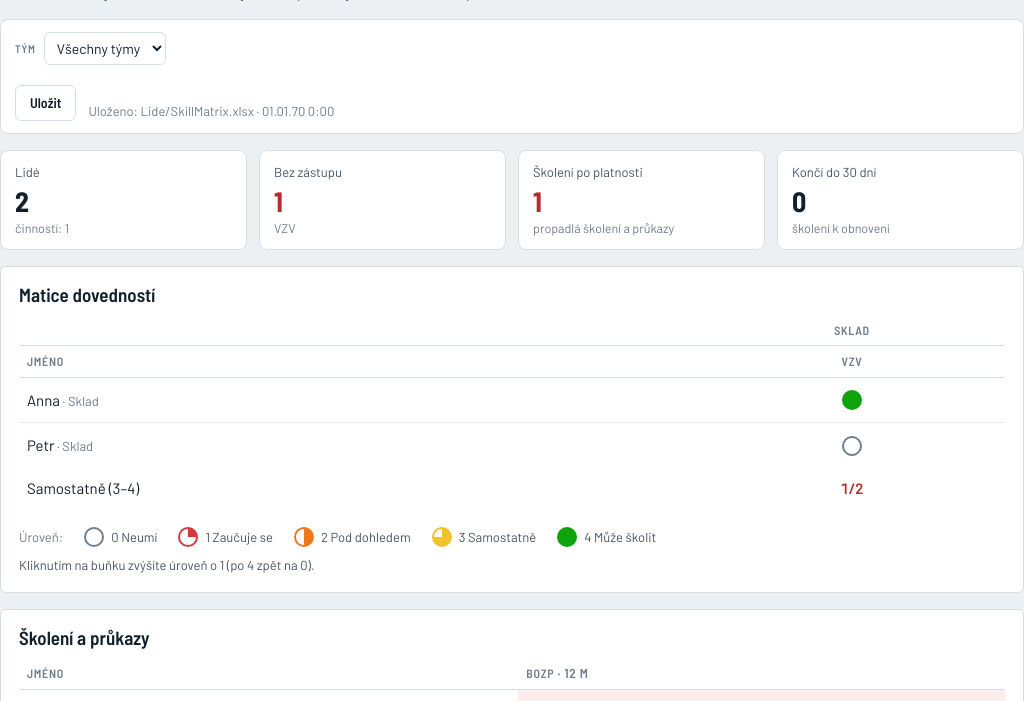
Test: Skill Matrix › matice: klik zvýší úroveň, zástupnost a školení po platnosti
Check: the text with class "kpi-value" below "Školení po platnosti" reads "1", box [533,184,542,218]
Check: the text "1/2" is shown, box [841,479,864,497]
Click the button named "Petr · VZV:": (852, 446) [839,433,865,459]
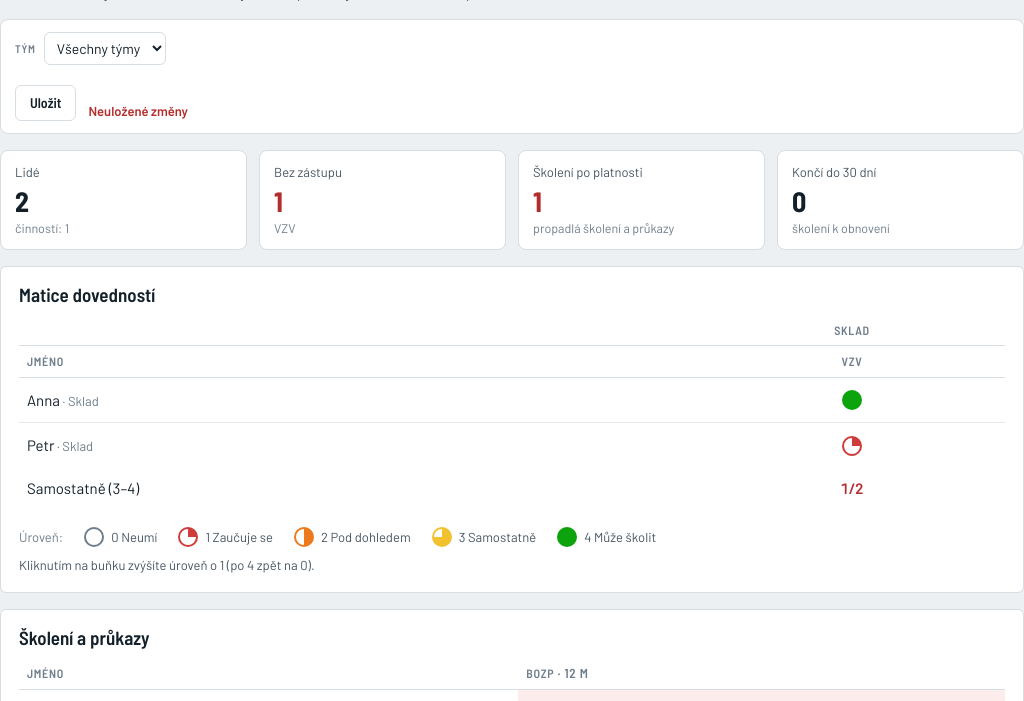
Click the button named "Petr · VZV:": (852, 446) [839,433,865,459]
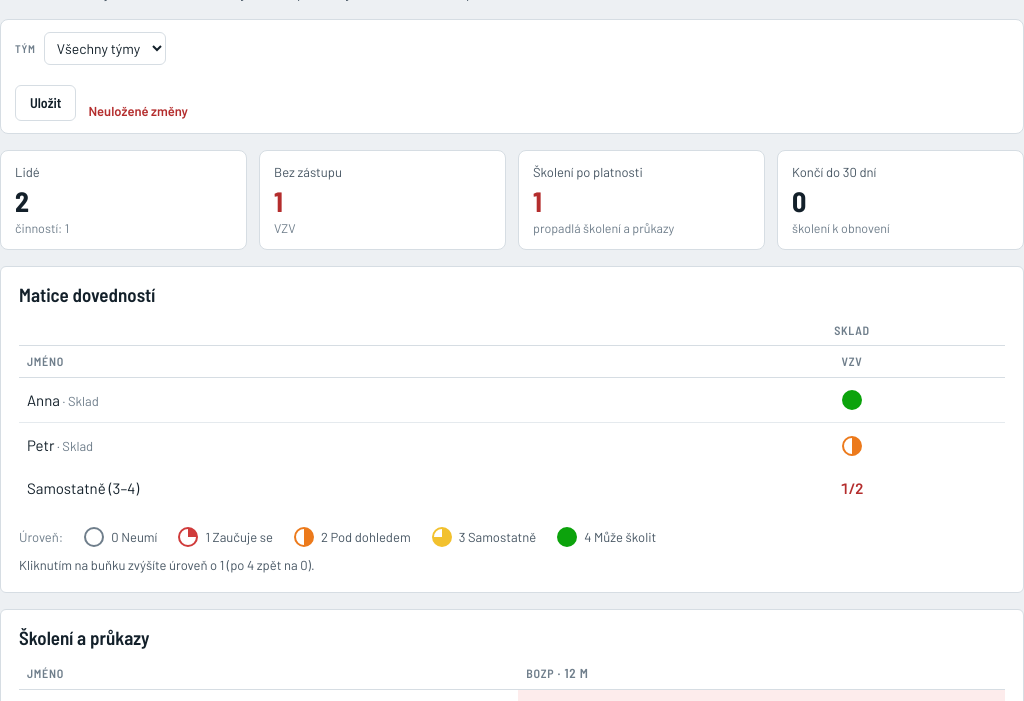
Click the button named "Petr · VZV:": (852, 446) [839,433,865,459]
(page scrolled)
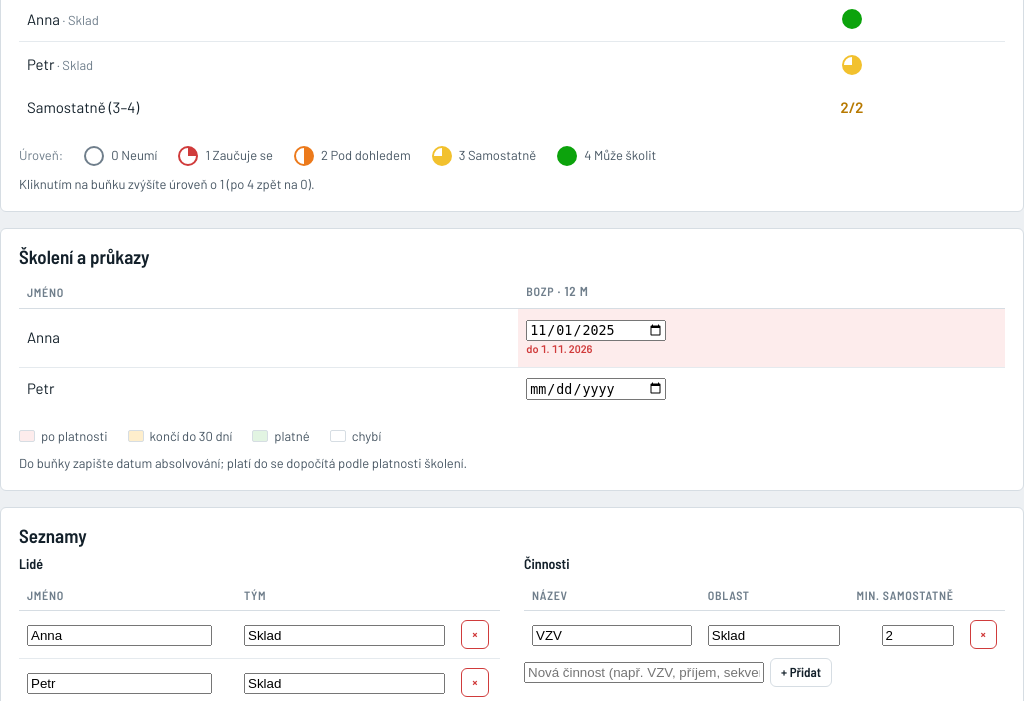
Check: the button named "Petr · VZV: 3 – Samostatně" is shown, box [839,52,865,78]
Check: the text "2/2" is shown, box [841,98,864,116]
In the date field named "Anna · BOZP": (596, 330) [526,320,666,341], type "2026-11-05"
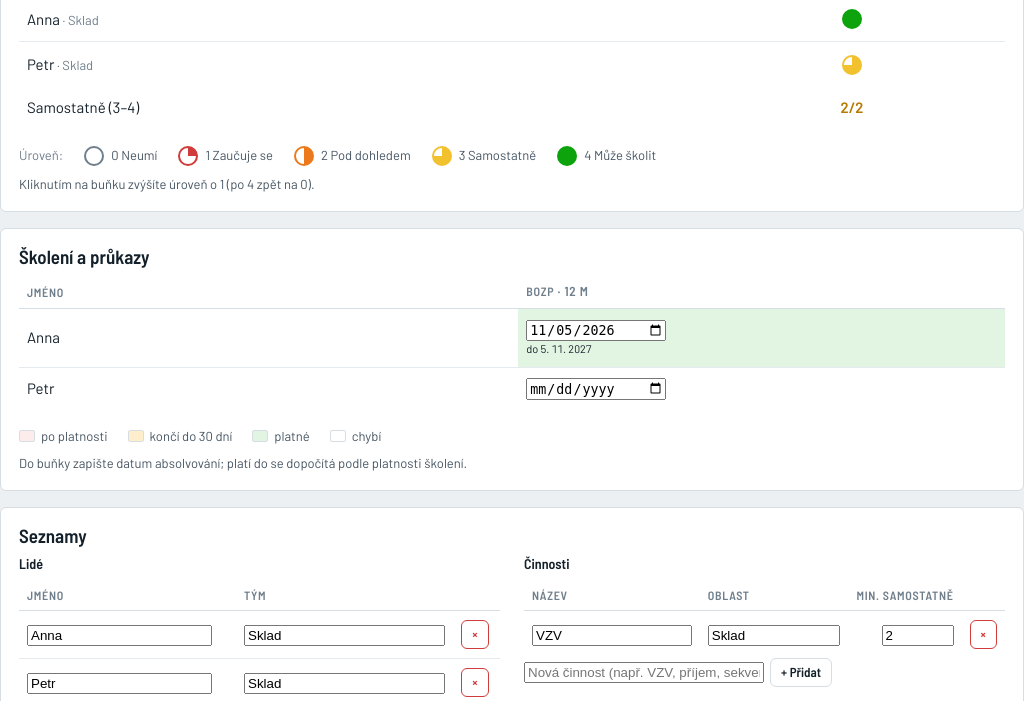
Check: the text "do 5. 11. 2027" is shown, box [526,342,592,355]
